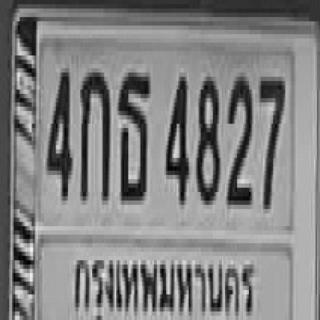A01: (79, 68, 108, 196)
A24: (116, 66, 149, 198)
N02: (226, 72, 250, 200)
N04: (45, 64, 71, 196), (164, 72, 187, 200)
N07: (258, 73, 284, 205)
N08: (195, 72, 219, 200)
P04: (66, 239, 260, 320)
